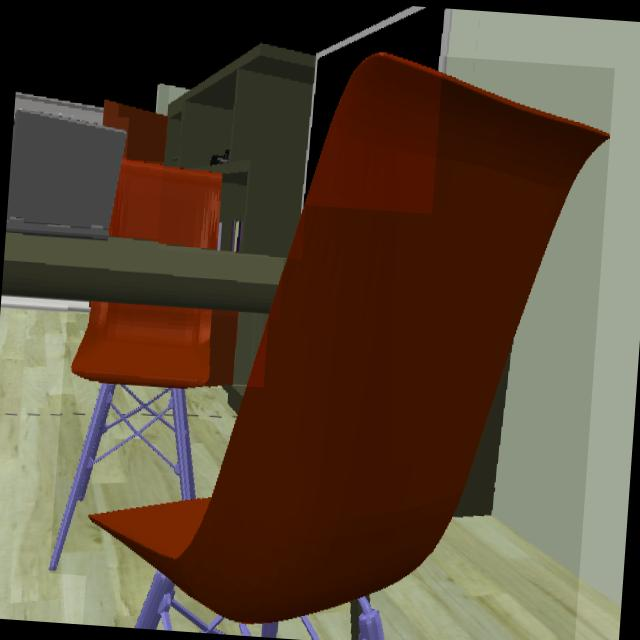book: (231, 219, 244, 253)
bookshelf: (163, 43, 315, 258), (232, 313, 268, 386)
chair: (90, 52, 610, 640), (49, 304, 211, 573), (108, 159, 221, 249)
laptop: (5, 110, 127, 241)
monitor: (303, 6, 446, 205)
table: (1, 230, 282, 316)
